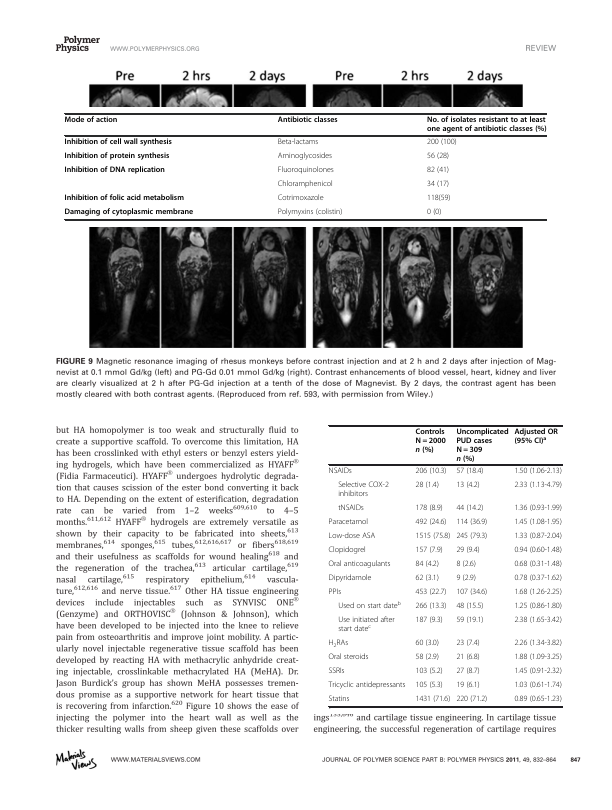borderless: (327, 424, 562, 706), (63, 112, 546, 219)
cell: (426, 116, 547, 134), (455, 428, 509, 464), (64, 208, 194, 218), (64, 194, 185, 204), (337, 616, 396, 635), (64, 138, 173, 148), (64, 152, 170, 162), (64, 166, 166, 176), (337, 481, 390, 500), (414, 428, 447, 455), (513, 428, 559, 446), (337, 600, 402, 612), (328, 681, 406, 691), (277, 208, 343, 218), (328, 560, 391, 570), (277, 166, 335, 176), (277, 152, 333, 162), (277, 180, 333, 190), (277, 116, 339, 125), (513, 467, 563, 477), (513, 481, 563, 491), (513, 504, 563, 514), (513, 518, 563, 528), (513, 532, 563, 542), (513, 546, 563, 556), (513, 560, 563, 570), (513, 574, 563, 584), (513, 588, 563, 598), (513, 602, 563, 612), (513, 616, 563, 626), (513, 639, 563, 649), (513, 653, 563, 663), (513, 667, 563, 677), (513, 681, 563, 691), (513, 695, 563, 705), (64, 116, 118, 125), (328, 532, 376, 542), (277, 194, 324, 204), (328, 574, 372, 584), (277, 138, 319, 148), (328, 518, 369, 528), (328, 653, 369, 663), (328, 546, 367, 556), (414, 532, 451, 542), (414, 695, 451, 705), (414, 467, 447, 477), (414, 518, 447, 528), (455, 518, 488, 528), (455, 532, 488, 542), (414, 588, 447, 598), (455, 588, 488, 598), (414, 602, 447, 612), (455, 695, 488, 705), (426, 138, 457, 148), (414, 504, 444, 514), (414, 546, 444, 556), (414, 616, 444, 626), (414, 667, 444, 677), (414, 681, 444, 691), (455, 467, 484, 477), (455, 504, 484, 514), (455, 602, 484, 612), (455, 616, 484, 626), (337, 504, 365, 514), (414, 481, 440, 491), (414, 560, 440, 570), (414, 574, 440, 584), (414, 639, 440, 649), (414, 653, 440, 663), (426, 194, 451, 204), (328, 467, 353, 477), (455, 481, 480, 491), (455, 546, 480, 556), (455, 639, 480, 649), (455, 653, 480, 663), (455, 667, 480, 677), (455, 681, 480, 691), (426, 152, 450, 162), (426, 166, 450, 176), (426, 180, 450, 190), (455, 560, 477, 570), (455, 574, 477, 584), (327, 639, 349, 649), (328, 695, 350, 705), (328, 667, 345, 677), (426, 208, 442, 218), (328, 588, 342, 598)
